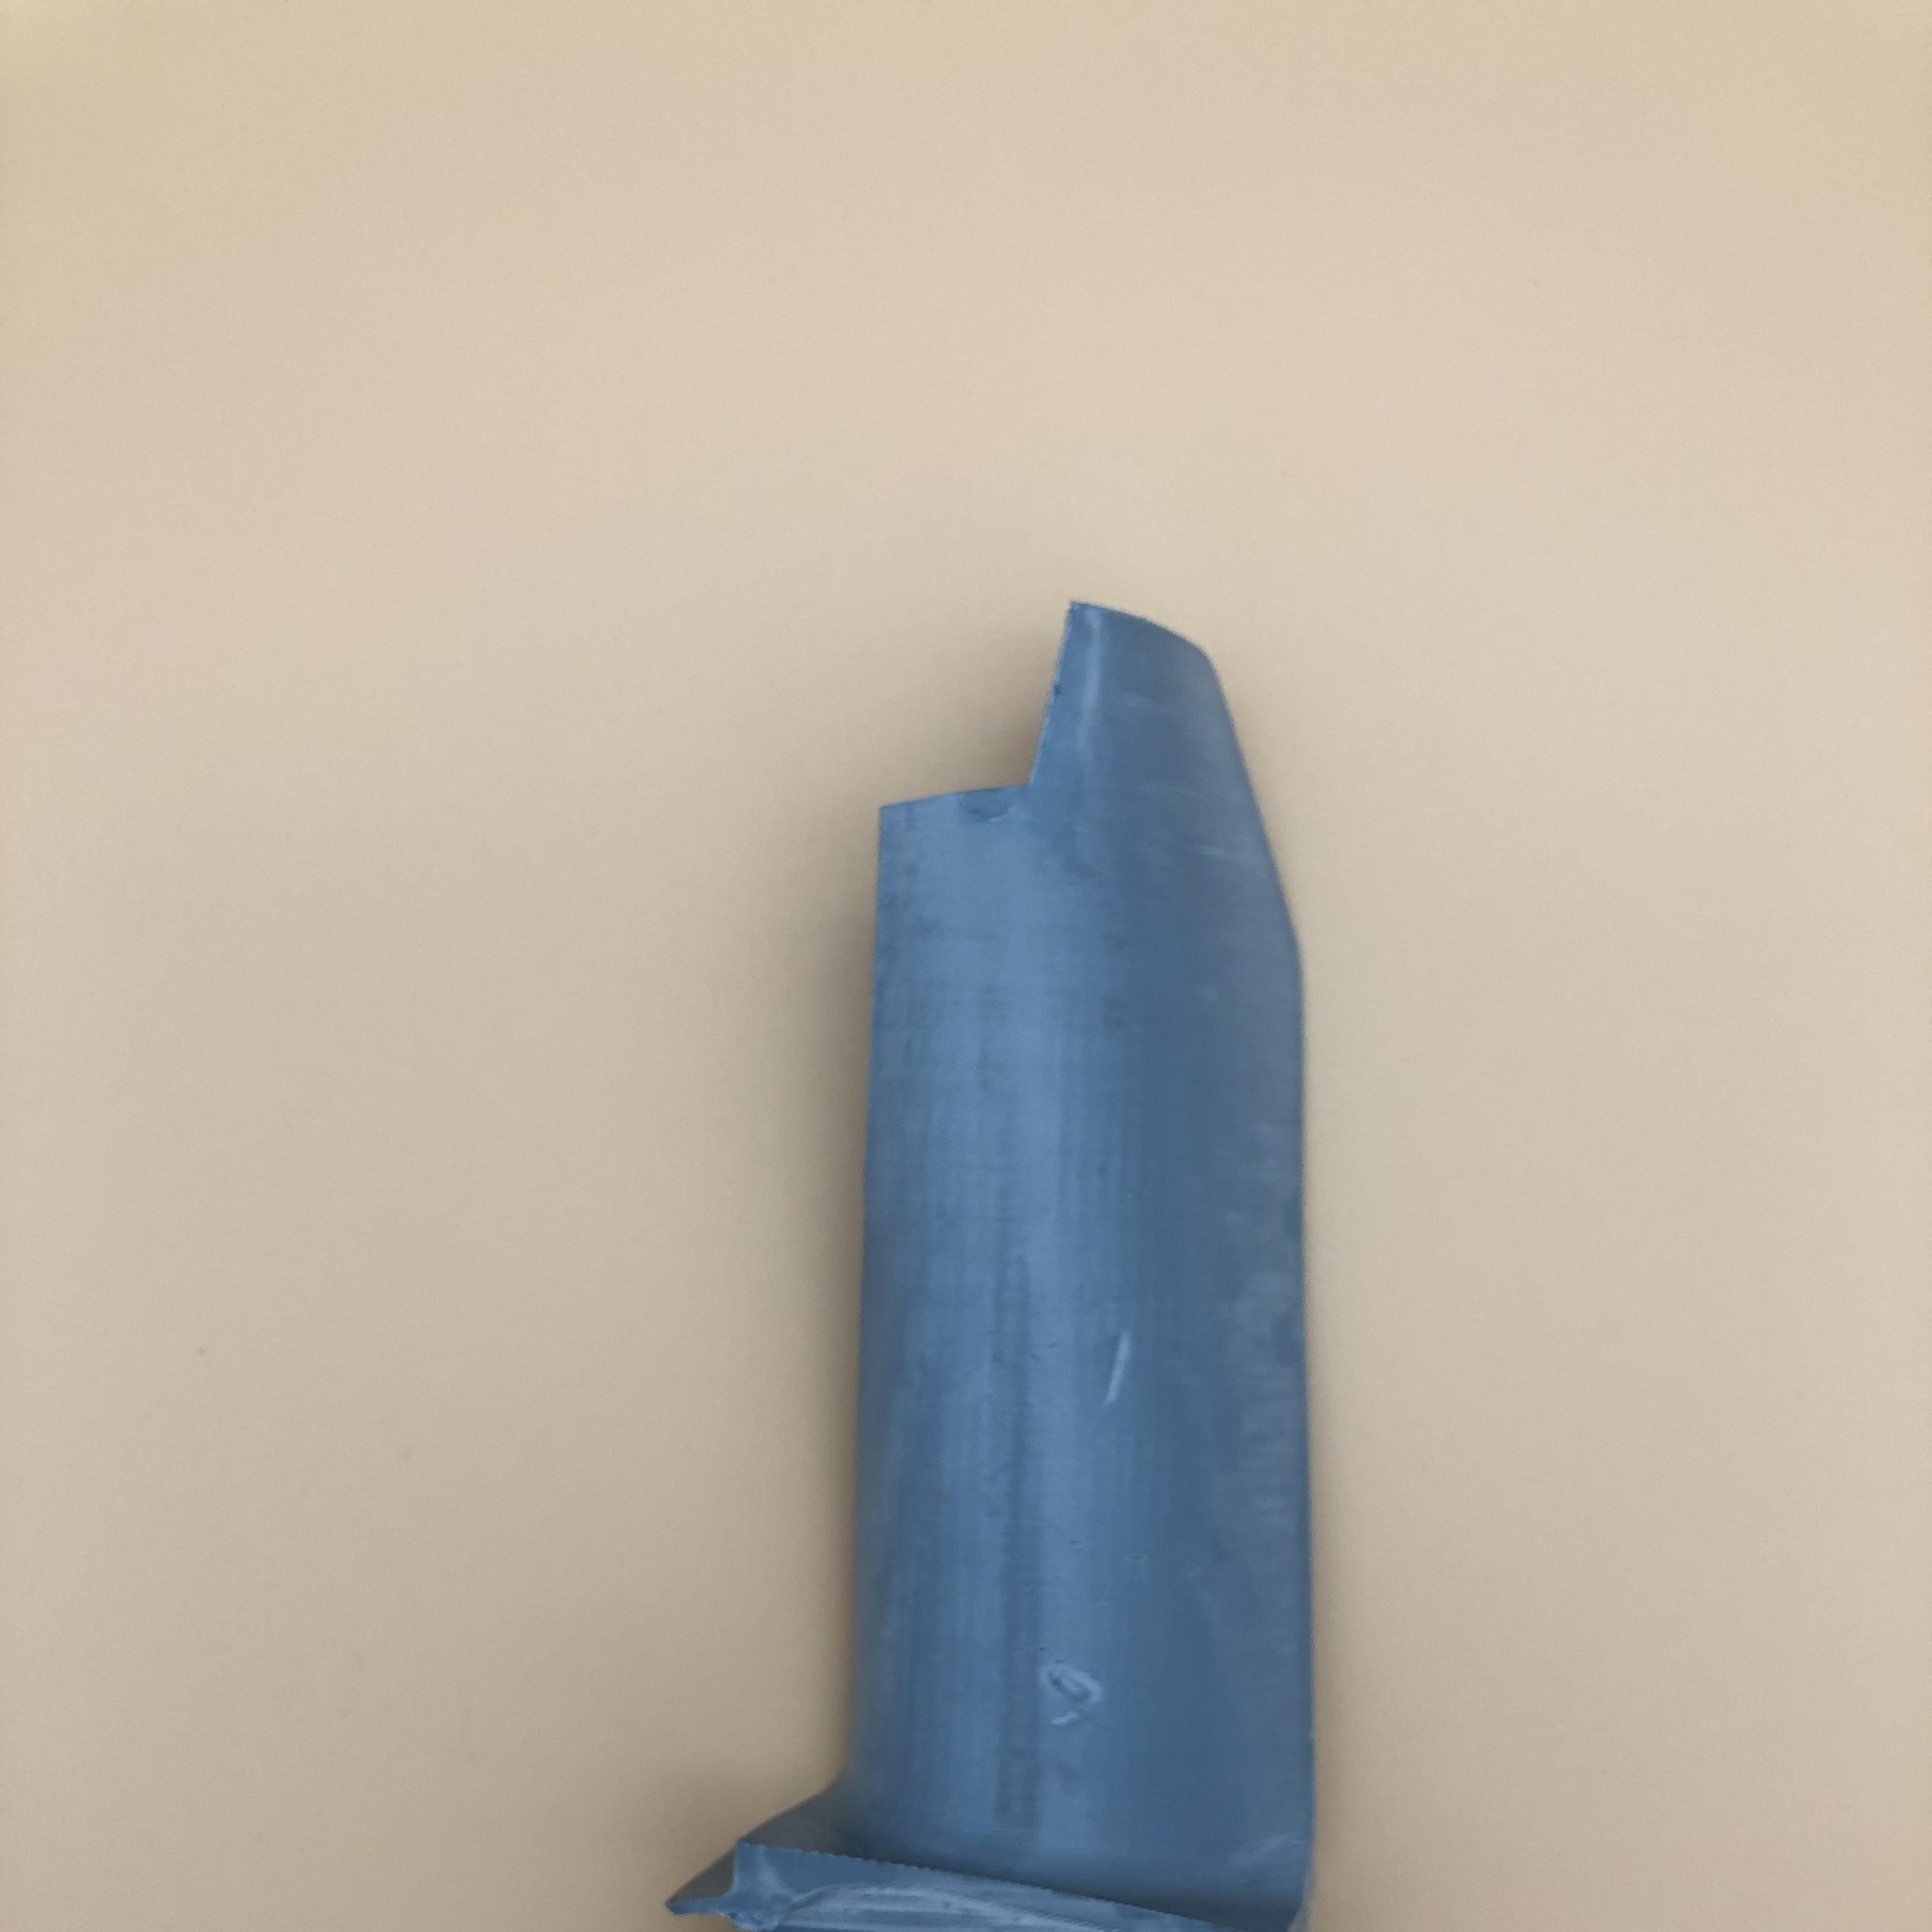fracture: (883, 626, 1132, 821)
